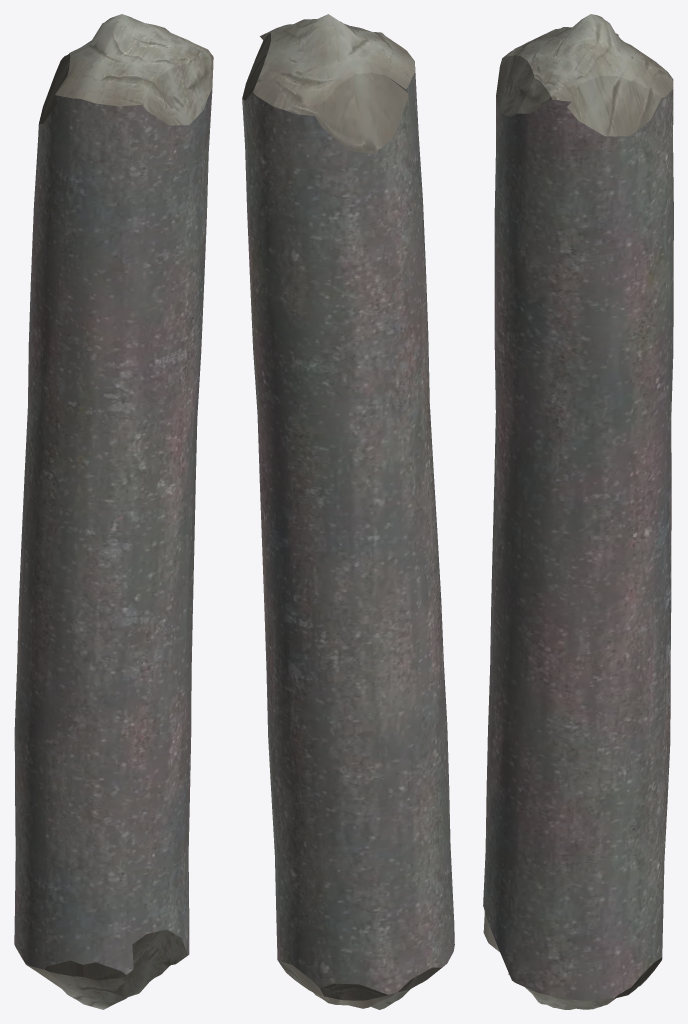
3 views of the same model, side by side, from view 1: azimuth 30°, elevation 25°; view 2: azimuth 150°, elevation 25°; view 3: azimuth 270°, elevation 25° (orthographic). The views are drawn at different scales.
Parts seen in each view (by area): view 1: SM_GF_Ash_Tree_02_quarter_03_LOD0; view 2: SM_GF_Ash_Tree_02_quarter_03_LOD0; view 3: SM_GF_Ash_Tree_02_quarter_03_LOD0.
Boxes of the visible parts, x1,y1,x2,y2 form: SM_GF_Ash_Tree_02_quarter_03_LOD0: (14, 14, 213, 1009); SM_GF_Ash_Tree_02_quarter_03_LOD0: (242, 14, 454, 1009); SM_GF_Ash_Tree_02_quarter_03_LOD0: (483, 14, 673, 1009).
Size of the model in its own units: 0.4598 by 2.36 by 0.404.
Materials: 1 (1 with a texture image).
